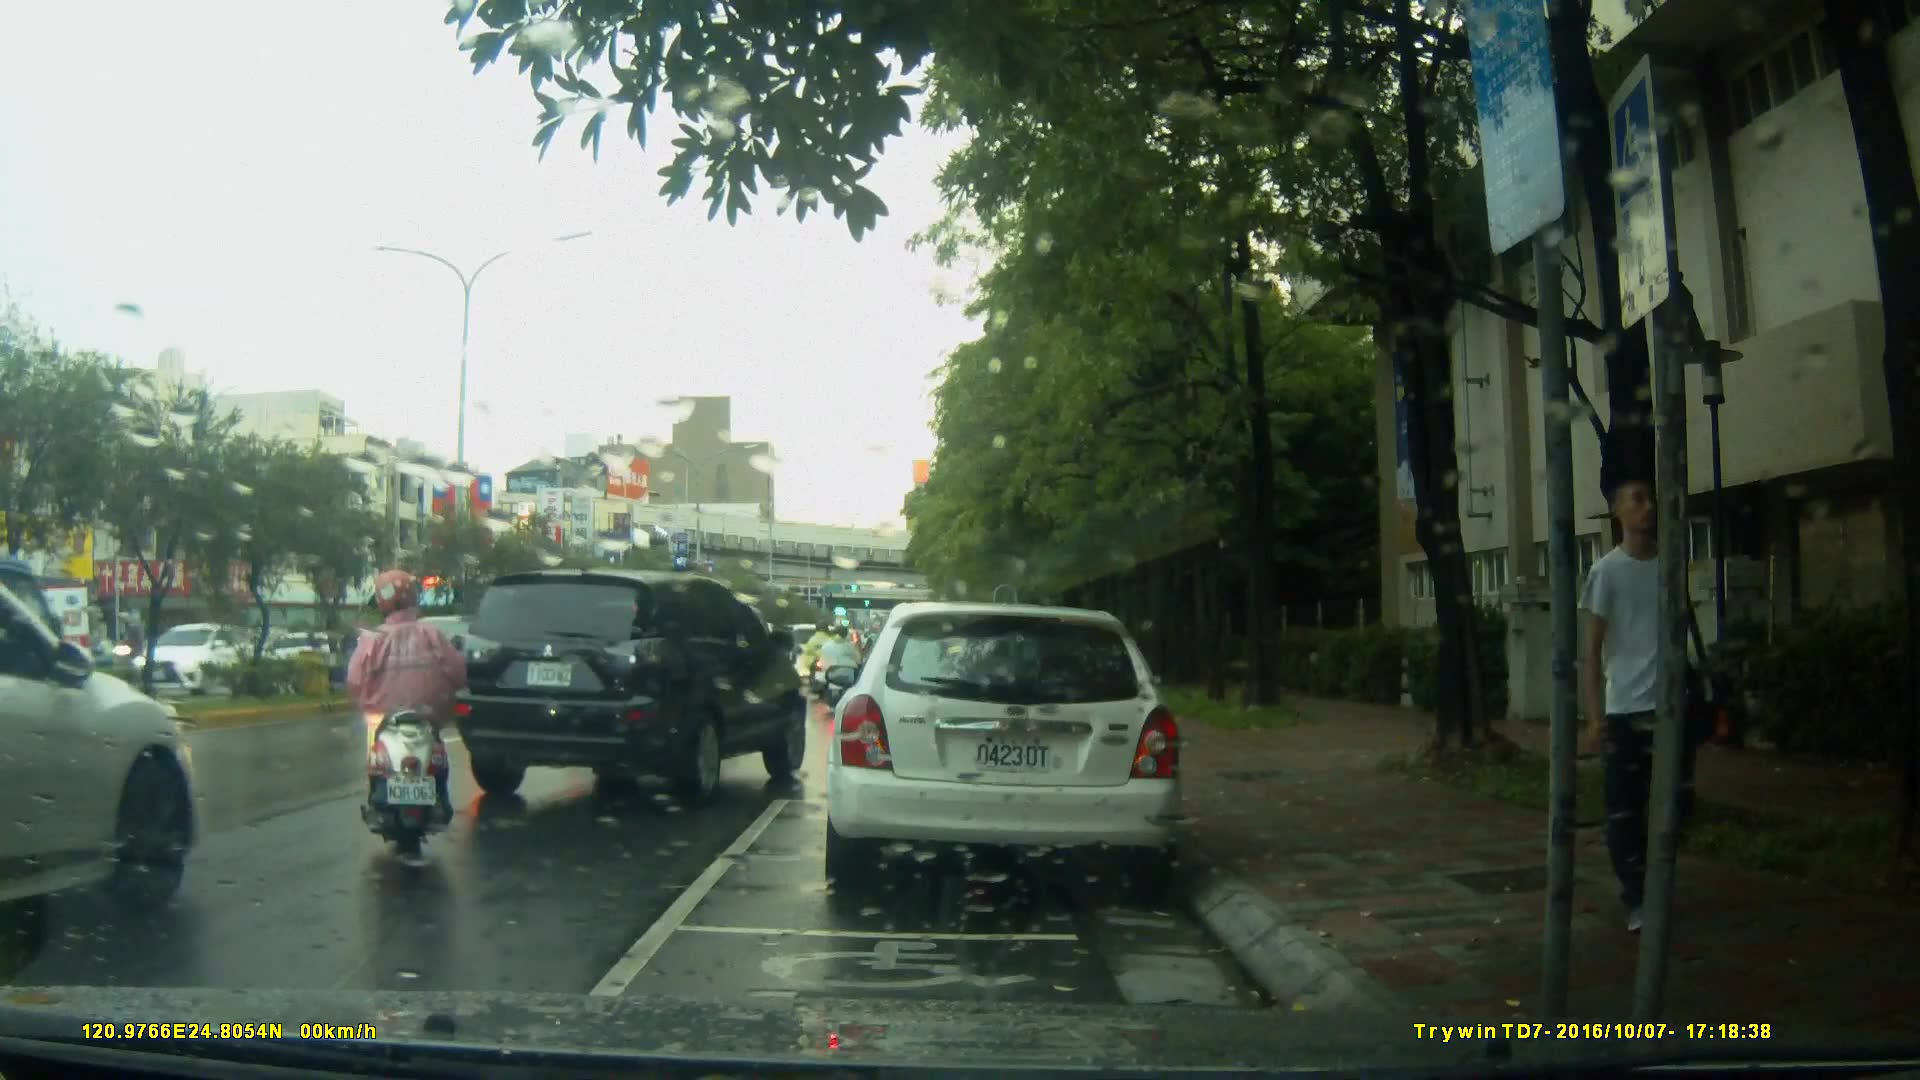pedestrian: (1578, 458, 1723, 953)
rider: (343, 564, 471, 854), (816, 621, 869, 719), (803, 626, 839, 698)
vehicle: (820, 602, 1188, 898), (2, 516, 206, 957), (449, 568, 813, 805), (139, 622, 261, 703)
